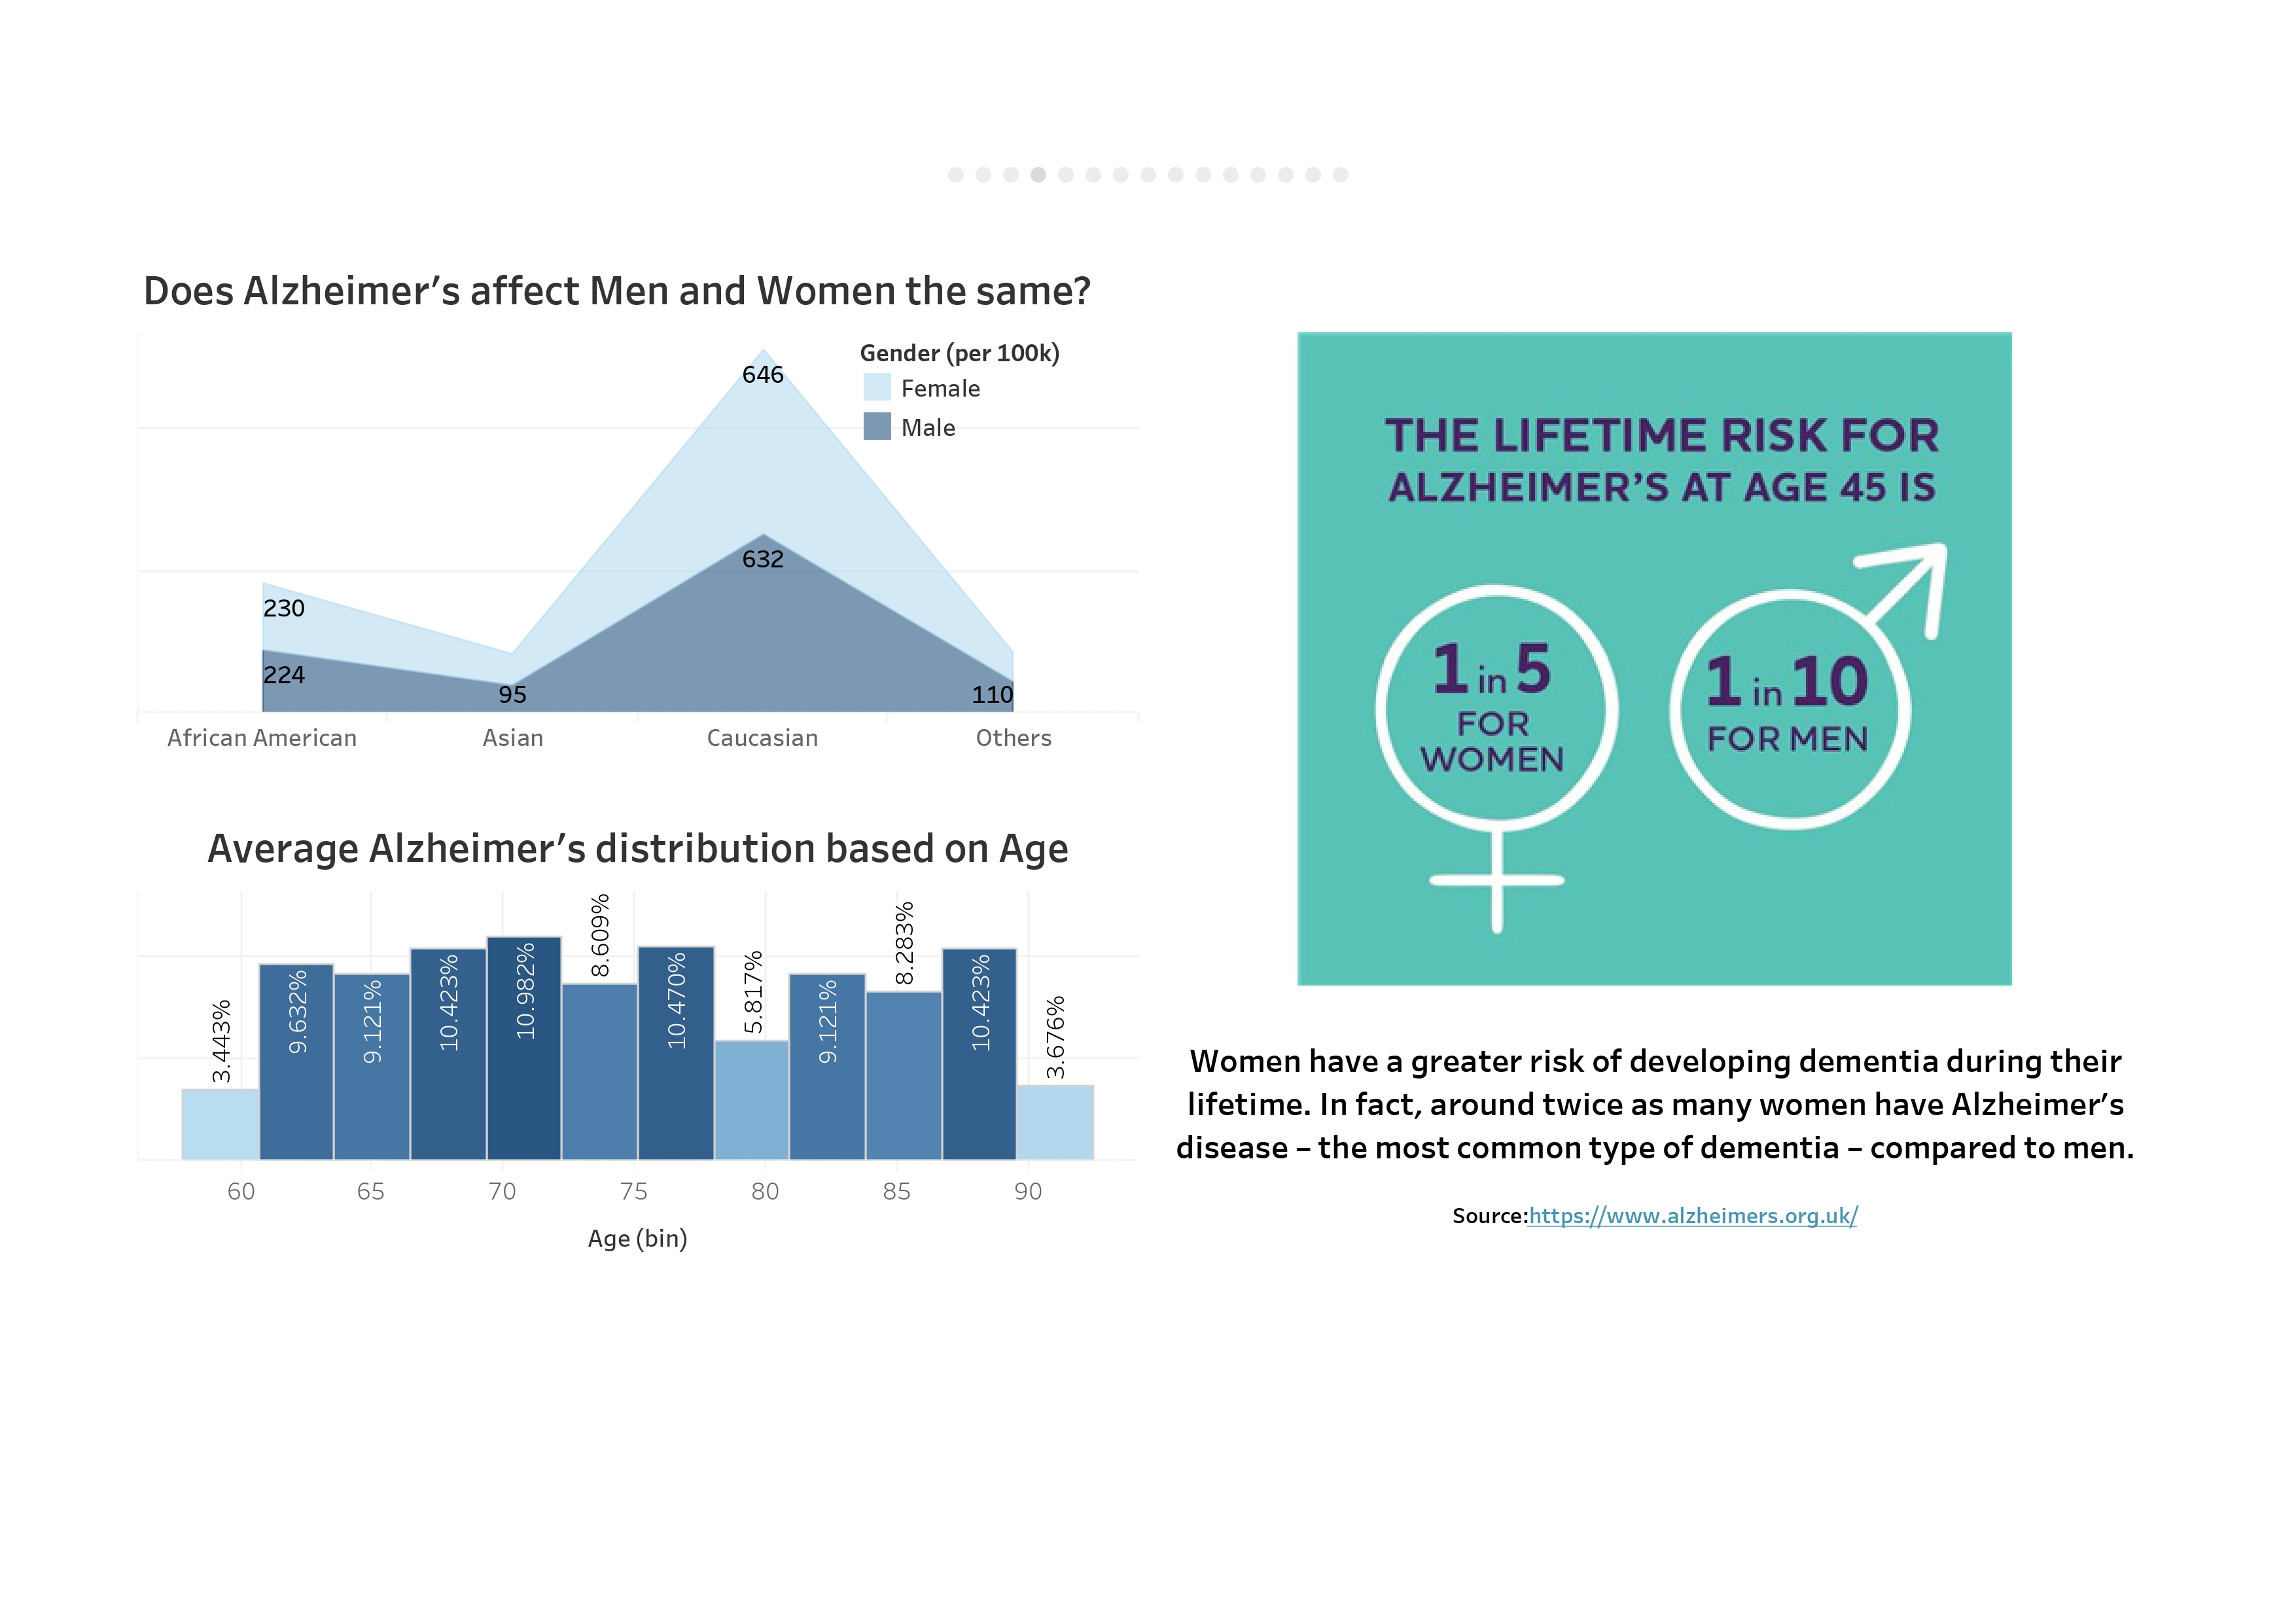

The dashboard page shown, as its layout file describes it:
{"tool":"tableau","page":{"name":"Dashboard 14","canvas":[1000,1000],"units":"permille","ordinal":6},"visuals":[{"type":"image","param":"C:/Users/dhara/OneDrive - University of Connecticut/Desktop/Alzheimers_Disease_A","box":[6.5,11.5,493,830.7]},{"type":"image","param":"C:/Users/dhara/OneDrive - University of Connecticut/Desktop/Alzheimers_Disease_A","box":[499.5,11.5,494,976.9]},{"type":"text","box":[6.5,842.2,493,146.3]}]}

Visuals, with their boxes on the dashboard's canvas, which has no fixed pixel size, in thousandths of its width and height (x1, y1, x2, y2). These are canvas units, not pixel positions in the 2296x1623 screenshot, which may show the page scaled, cropped or inside an application window:
image: (6, 12, 500, 842)
image: (500, 12, 994, 988)
text: (6, 842, 500, 988)
